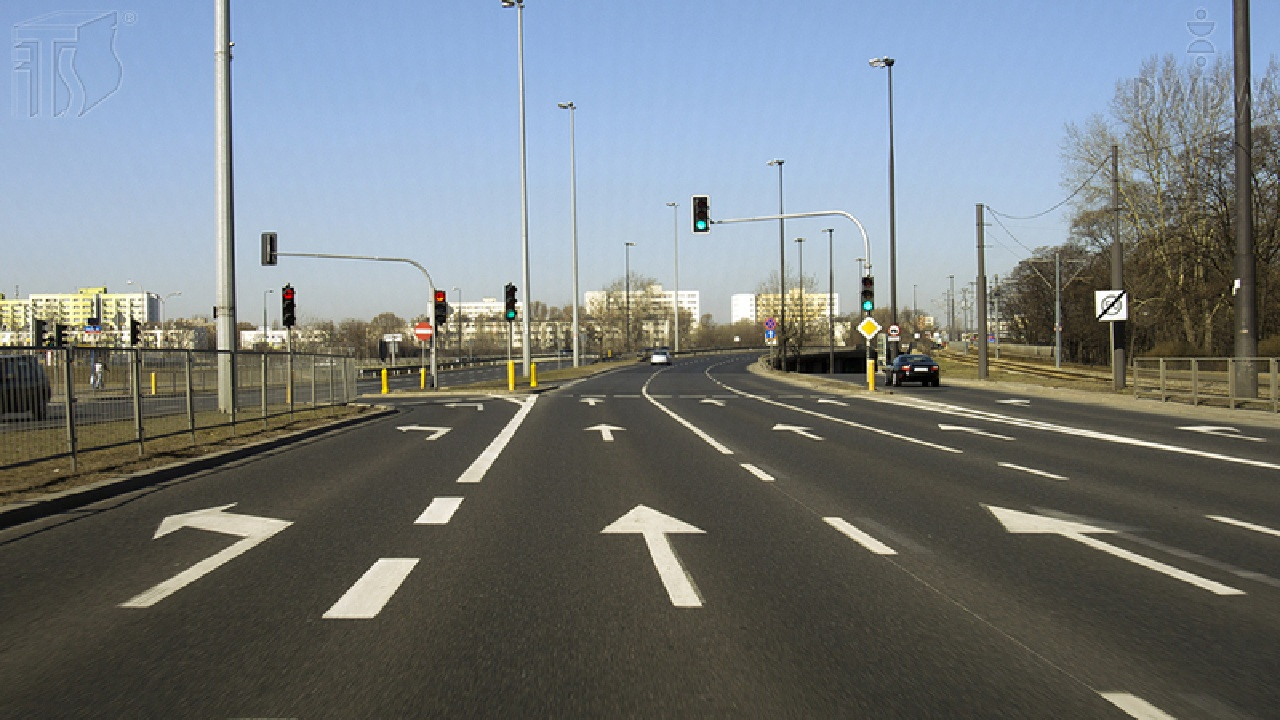D1: (854, 317, 883, 341)
Green: (692, 195, 710, 233), (861, 276, 875, 311), (505, 285, 515, 319)
Red: (282, 284, 295, 327), (434, 290, 446, 323)
